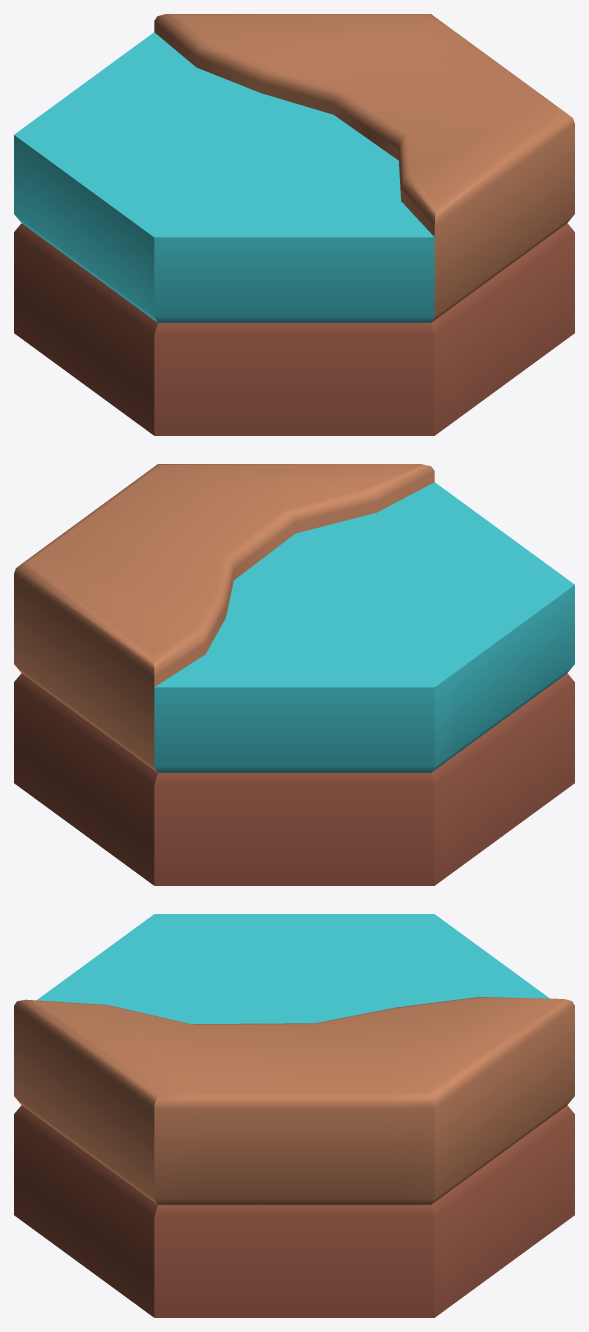
The model's file is hex_rock_waterC_detail.glb.
3 views of the same model, one above another, from view 1: azimuth 30°, elevation 25°; view 2: azimuth 150°, elevation 25°; view 3: azimuth 270°, elevation 25° (orthographic).
Parts seen in each view (by area): view 1: hex_rock_waterC_detail; view 2: hex_rock_waterC_detail; view 3: hex_rock_waterC_detail.
Part boxes in pixels (left/top/right/bottom): hex_rock_waterC_detail: left=14, top=14, right=574, bottom=435; hex_rock_waterC_detail: left=14, top=464, right=574, bottom=885; hex_rock_waterC_detail: left=14, top=914, right=574, bottom=1317.
Size of the model in its own units: 2 by 1 by 2.31.
